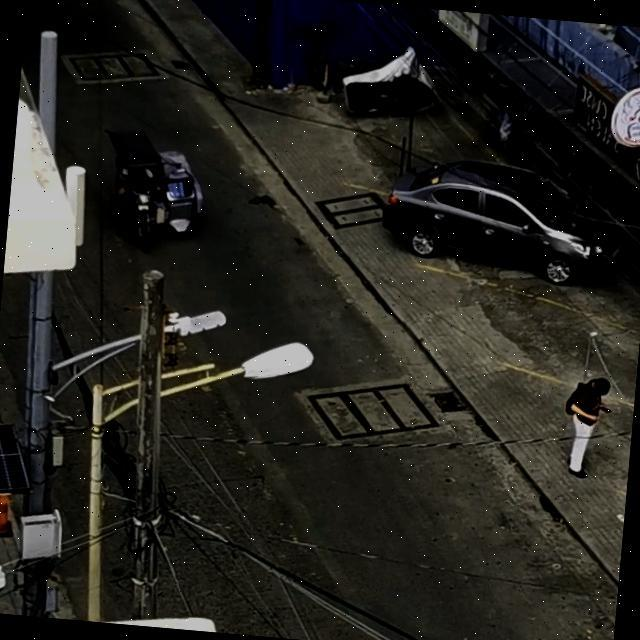Tricycle: (104, 126, 215, 250)
